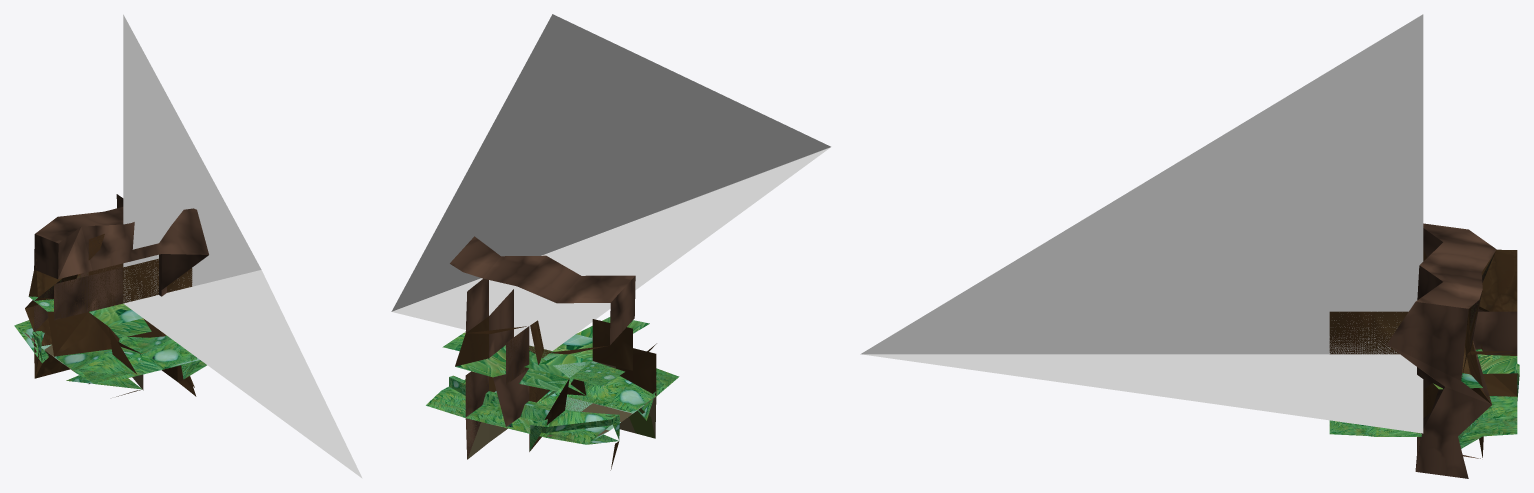
Rendered from tiles.glb.
3 renders of one model, left to right at view 1: azimuth 30°, elevation 25°; view 2: azimuth 150°, elevation 25°; view 3: azimuth 270°, elevation 25°, orthographic. The views are drawn at different scales.
Parts seen in each view (by area): view 1: mb_frame, ell_b1h2_b, edge_inner_b4h2_outdoor, tetra_b1h3, edge_inner_b2h4, edge_b1h1_outdoor, tetra_b3h1, spike_inner_b3h3, corner_inner_b4h3, ell_inner_b4h1_outdoor, edge_inner_b3h3, ell_inner_b1h4 (+4 smaller); view 2: mb_frame, ell_b1h2_b, twist_left_b1h3, ell_b2h1_b, edge_inner_b4h2_outdoor, corner_b1h0_outdoor, twist_left_b3h1_outdoor, edge_b2h0_outdoor, spike_inner_b3h3, tetra_b3h1_outdoor, ell_inner_b4h1_outdoor, spike_b1h1 (+5 smaller); view 3: mb_frame, ell_b1h2_b, corner_inner_b3h4, ell_b1h2_a, edge_b1h1_outdoor, ell_inner_b4h1_outdoor, tetra_b1h3, twist_left_b3h1_outdoor, twist_left_b2h2, edge_b2h0_outdoor.
Boxes of the visible parts, x1,y1,x2,y2 form: mb_frame: (123, 14, 362, 478); ell_b1h2_b: (34, 207, 208, 296); edge_inner_b4h2_outdoor: (54, 312, 197, 383); tetra_b1h3: (34, 267, 123, 341); edge_inner_b2h4: (123, 258, 192, 303); edge_b1h1_outdoor: (25, 247, 77, 373); tetra_b3h1: (47, 311, 89, 383); spike_inner_b3h3: (109, 318, 199, 390); corner_inner_b4h3: (89, 303, 142, 326); ell_inner_b4h1_outdoor: (54, 312, 146, 356); edge_inner_b3h3: (88, 268, 123, 311); ell_inner_b1h4: (34, 277, 88, 378); mb_frame: (391, 14, 830, 350); ell_b1h2_b: (450, 236, 635, 459); twist_left_b1h3: (592, 319, 656, 395); ell_b2h1_b: (465, 278, 616, 444); edge_inner_b4h2_outdoor: (489, 346, 676, 412); corner_b1h0_outdoor: (529, 411, 619, 470); twist_left_b3h1_outdoor: (455, 316, 667, 436); edge_b2h0_outdoor: (426, 375, 614, 443); spike_inner_b3h3: (466, 317, 656, 459); tetra_b3h1_outdoor: (522, 354, 627, 411); ell_inner_b4h1_outdoor: (466, 354, 591, 427); spike_b1h1: (629, 368, 678, 438); mb_frame: (860, 14, 1423, 433); ell_b1h2_b: (1387, 223, 1496, 478); corner_inner_b3h4: (1329, 311, 1408, 354); ell_b1h2_a: (1470, 252, 1517, 354); edge_b1h1_outdoor: (1479, 249, 1517, 311); ell_inner_b4h1_outdoor: (1483, 373, 1517, 416); tetra_b1h3: (1473, 312, 1516, 354); twist_left_b3h1_outdoor: (1478, 354, 1517, 373); twist_left_b2h2: (1377, 341, 1482, 435); edge_b2h0_outdoor: (1458, 413, 1517, 440).
Bounding box in the file's own units: 1.51 × 2.5 × 3.51.
5 materials, 3 textured.
